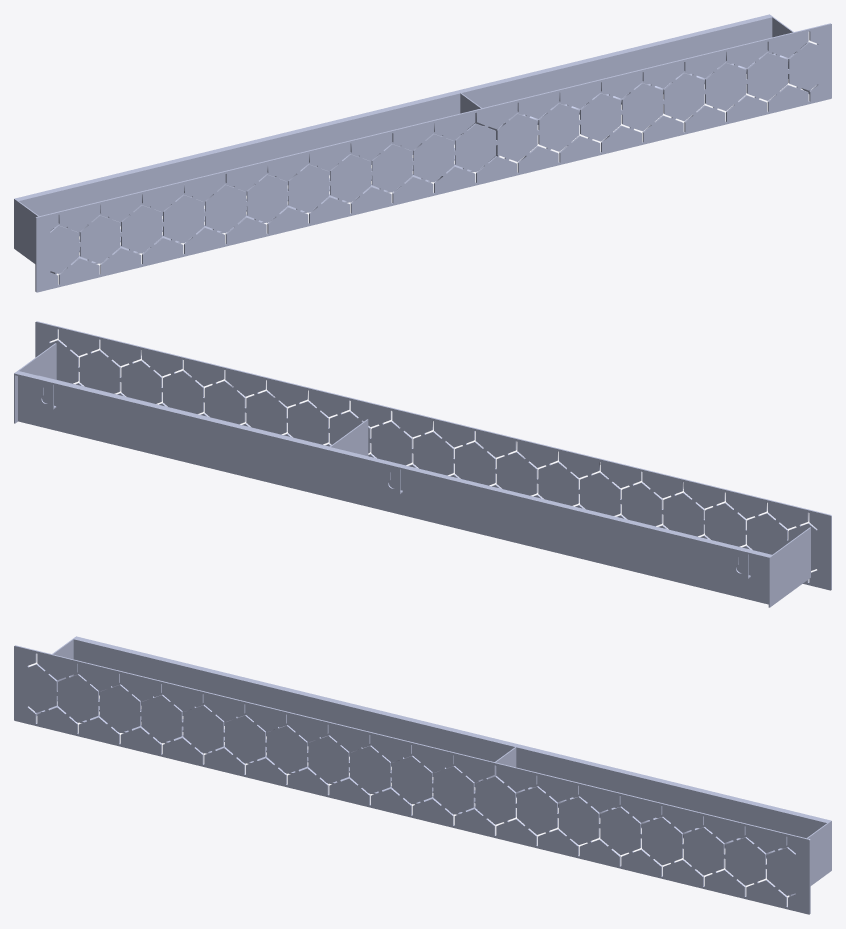
File: bee-double.e996526761.glb
3 renders of one model, top to bottom at view 1: azimuth 30°, elevation 25°; view 2: azimuth 150°, elevation 25°; view 3: azimuth 330°, elevation 25°, orthographic.
Parts seen in each view (by area): view 1: NAUO1; view 2: NAUO1; view 3: NAUO1.
Boxes of the visible parts, x1=… form: NAUO1: x1=14, y1=14, x2=831, y2=292; NAUO1: x1=14, y1=321, x2=831, y2=607; NAUO1: x1=14, y1=636, x2=831, y2=914.
Size of the model in its own units: 1 by 0.09 by 0.092.
